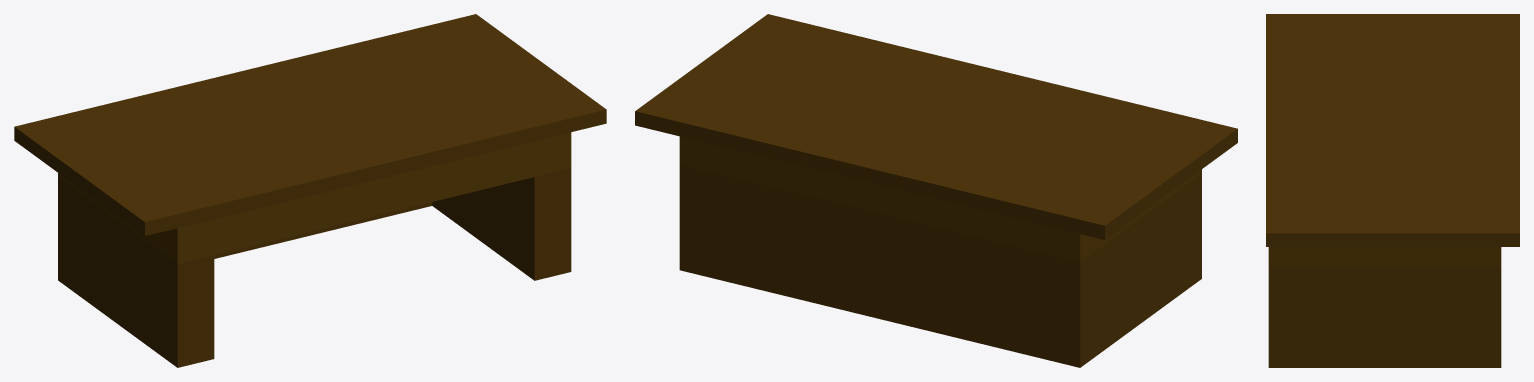
The model's file is TechDesk.fbx.
The picture shows the model from 3 angles, left to right: view 1: azimuth 30°, elevation 25°; view 2: azimuth 150°, elevation 25°; view 3: azimuth 270°, elevation 25°; orthographic projection. The views are drawn at different scales.
Parts seen in each view (by area): view 1: Teacher Desk; view 2: Teacher Desk; view 3: Teacher Desk.
Boxes of the visible parts, x1,y1,x2,y2 form: Teacher Desk: (14,14,606,367); Teacher Desk: (635,14,1237,367); Teacher Desk: (1266,14,1519,367).
Size of the model in its own units: 1670 by 536 by 817.
